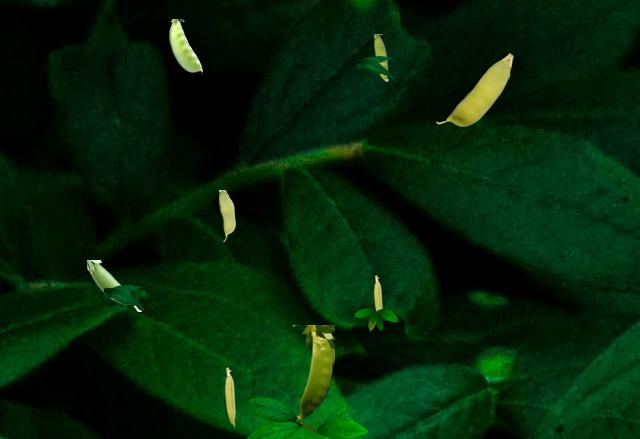pea: (436, 53, 512, 125), (293, 325, 333, 419), (87, 260, 140, 310), (169, 19, 201, 74), (219, 190, 234, 240), (374, 34, 387, 80), (225, 367, 234, 426), (374, 275, 381, 309)
